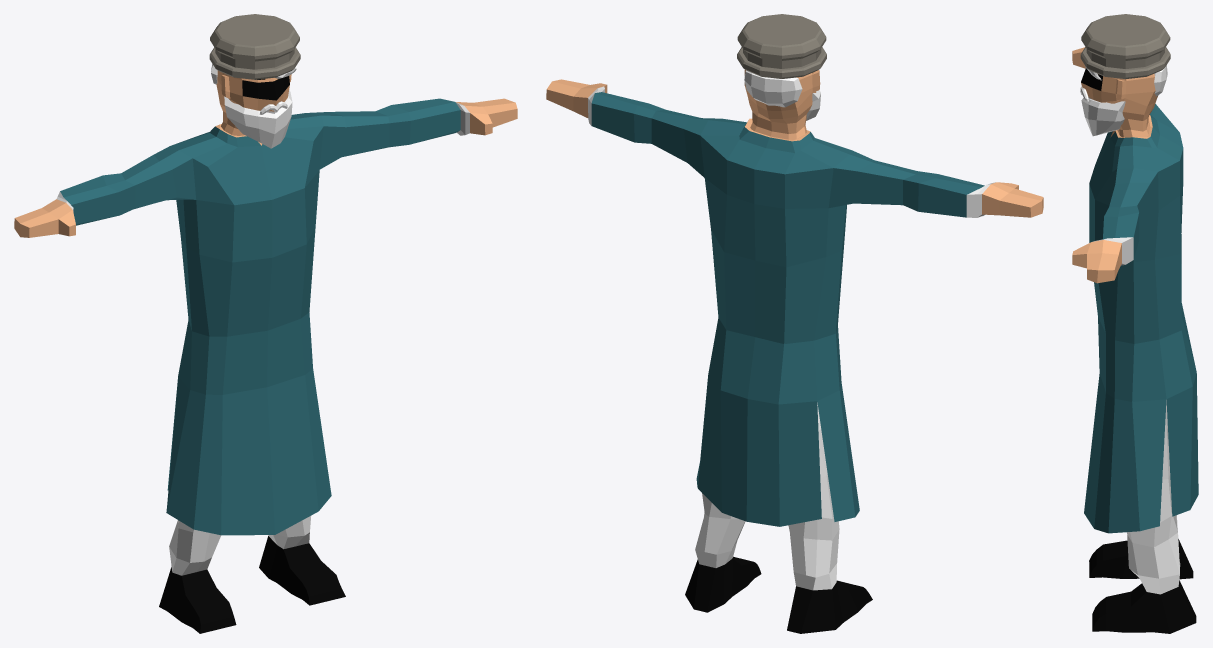
The model's file is character13.glb.
3 views of the same model, side by side, from view 1: azimuth 30°, elevation 25°; view 2: azimuth 150°, elevation 25°; view 3: azimuth 270°, elevation 25° (orthographic).
Parts seen in each view (by area): view 1: Cube.004, Cube.003, Cylinder, Cube.002, Cube.006; view 2: Cube.004, Cube.003, Cylinder, Cube.002, Cube.008; view 3: Cube.004, Cube.002, Cylinder, Cube.003, Cube.006, Cube.008.
Part boxes in pixels (x1=…): Cube.004: x1=14, y1=70, x2=517, y2=535; Cube.003: x1=159, y1=520, x2=236, y2=633; Cylinder: x1=209, y1=14, x2=300, y2=79; Cube.002: x1=259, y1=516, x2=345, y2=605; Cube.006: x1=224, y1=90, x2=292, y2=148; Cube.004: x1=546, y1=70, x2=1043, y2=526; Cube.003: x1=787, y1=402, x2=872, y2=633; Cylinder: x1=737, y1=14, x2=826, y2=78; Cube.002: x1=685, y1=493, x2=761, y2=612; Cube.008: x1=744, y1=70, x2=802, y2=107; Cube.004: x1=1072, y1=47, x2=1198, y2=533; Cube.002: x1=1092, y1=400, x2=1196, y2=633; Cylinder: x1=1080, y1=14, x2=1170, y2=79; Cube.003: x1=1089, y1=426, x2=1193, y2=579; Cube.006: x1=1081, y1=98, x2=1125, y2=136; Cube.008: x1=1154, y1=65, x2=1167, y2=96.
Bounding box in the file's own units: 1.68 × 1.85 × 0.3734.
